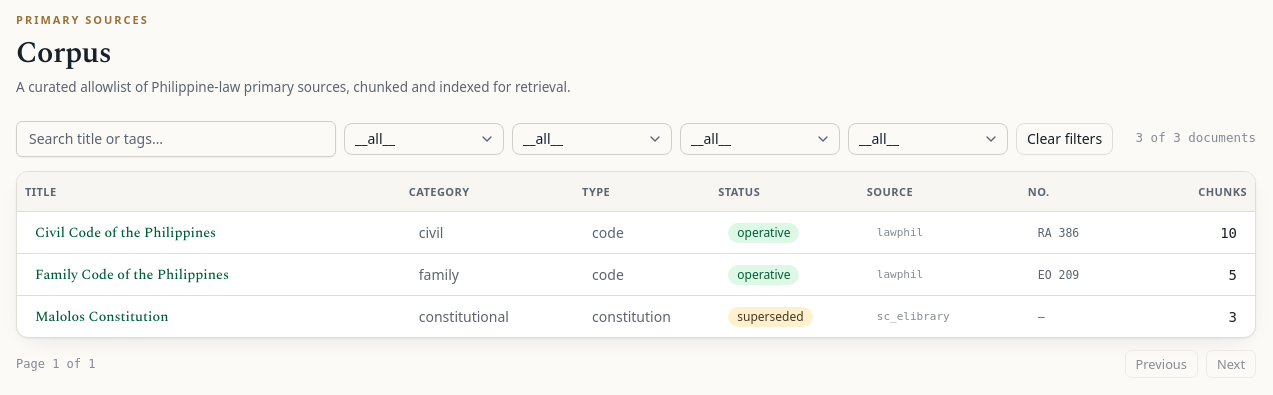
Test: category filter narrows rows
Check: the link "Civil Code of the Philippines" is shown, box 35,222 -> 216,243
Click the dropdown named "category": (424, 139) 344,123 -> 504,155
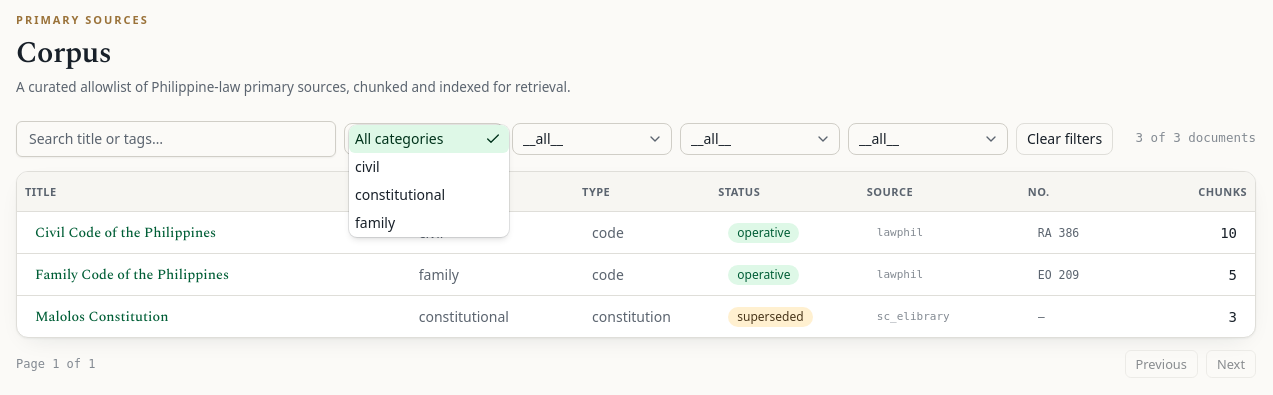
Click the option "family": (375, 222) 355,213 -> 395,232
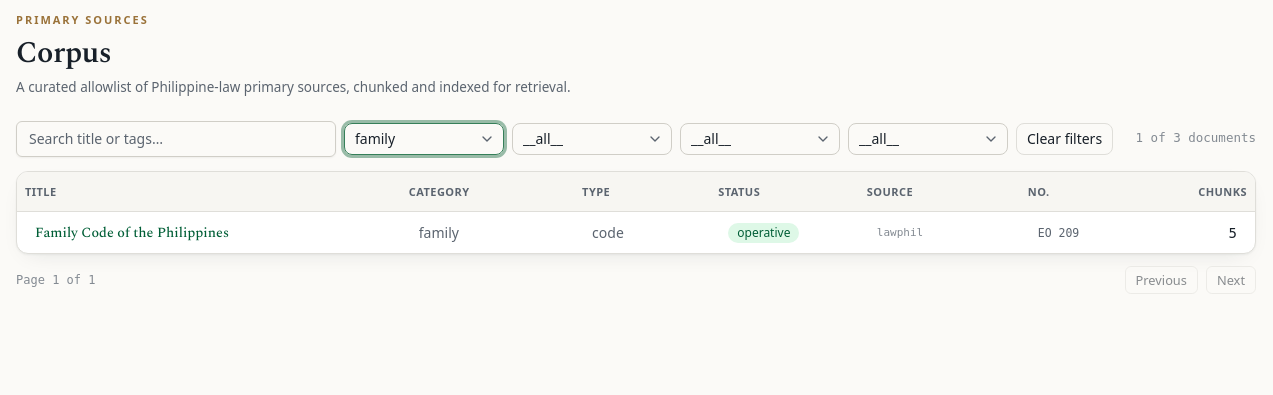
Check: the link "Civil Code of the Philippines" is gone
Check: the link "Family Code of the Philippines" is shown, box 35,222 -> 229,243
